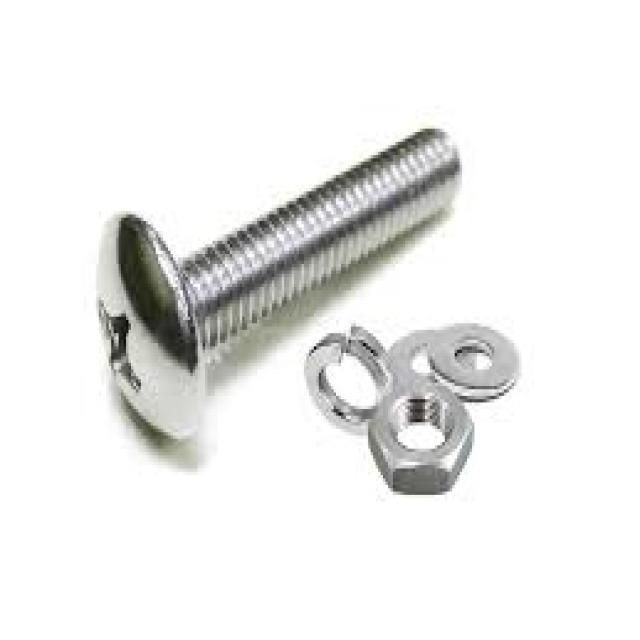Screw: (94, 129, 460, 439)
